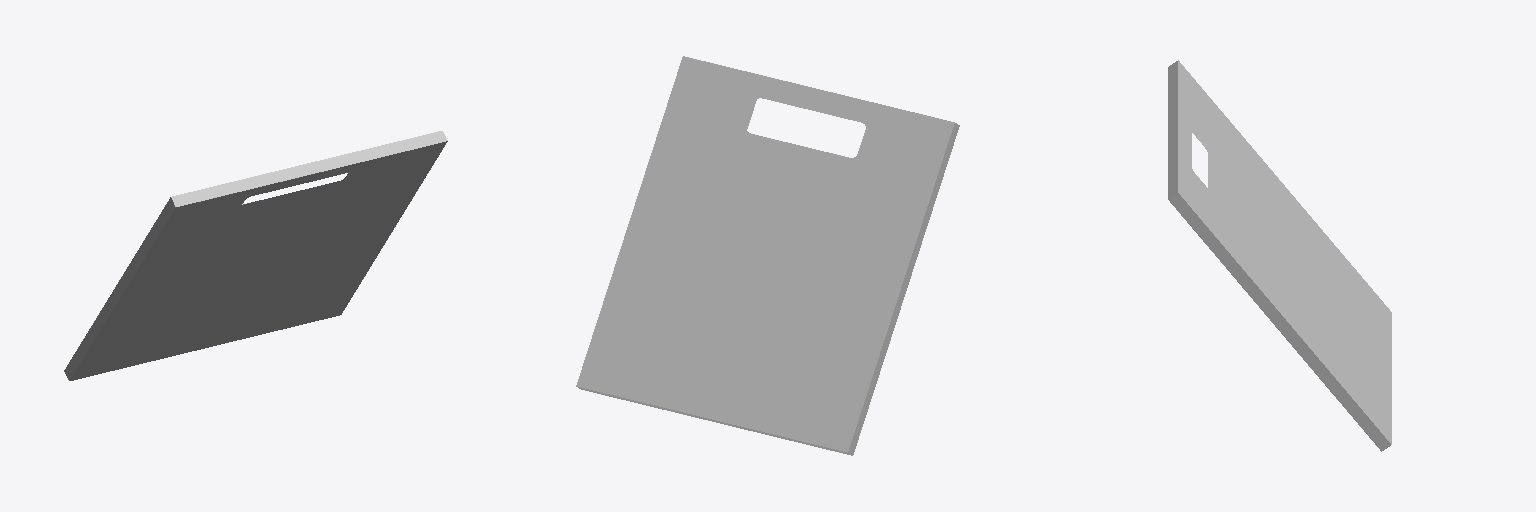
The model's file is original-5.obj.
3 views of the same model, side by side, from view 1: azimuth 30°, elevation 25°; view 2: azimuth 150°, elevation 25°; view 3: azimuth 270°, elevation 25° (orthographic).
Parts seen in each view (by area): view 1: #ID16; view 2: #ID16; view 3: #ID16.
Boxes of the visible parts, x1=… form: #ID16: x1=64, y1=131, x2=447, y2=380; #ID16: x1=576, y1=56, x2=959, y2=455; #ID16: x1=1168, y1=60, x2=1391, y2=451.
Size of the model in its own units: 0.8873 by 0.808 by 0.6317.